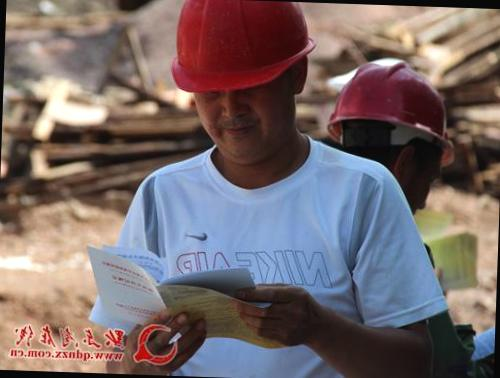helmet: (153, 0, 322, 122), (314, 50, 479, 149)
person: (117, 3, 420, 378)
